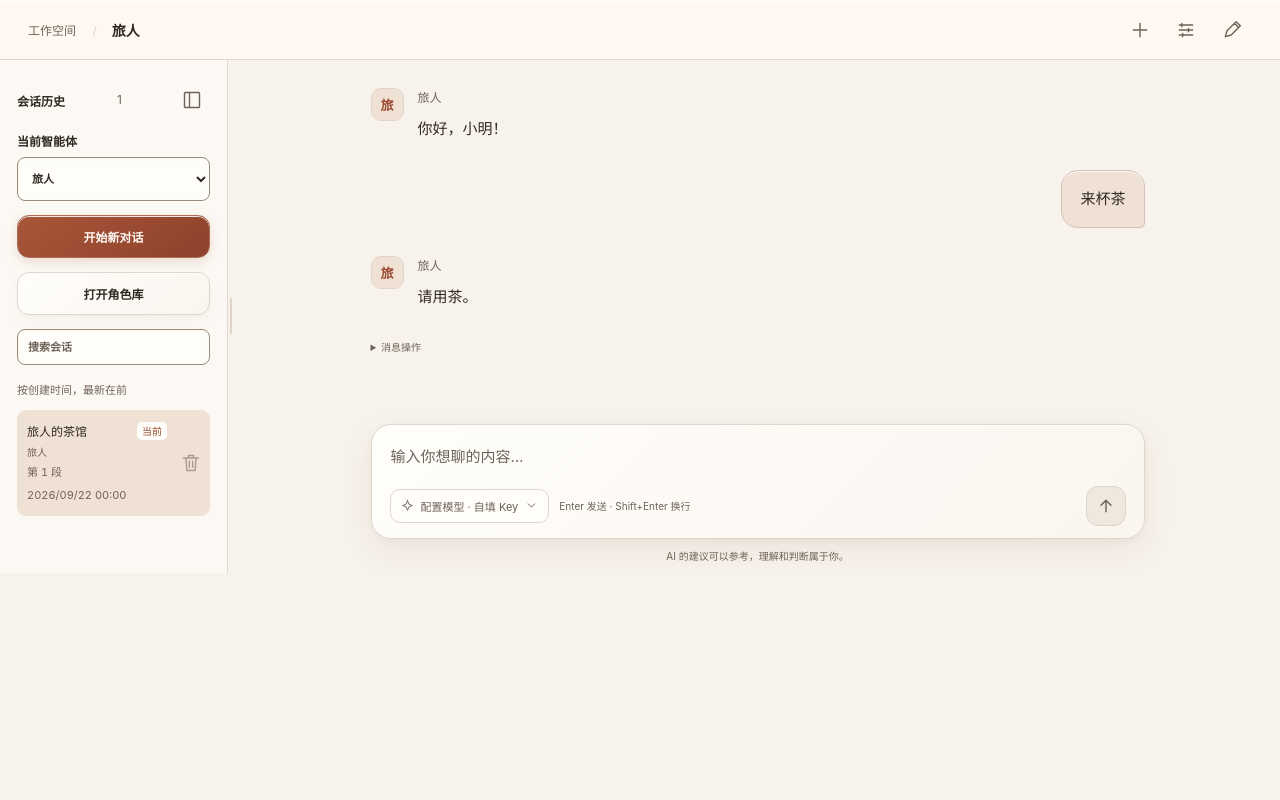
Scenario: does not reopen a canvas the user closed while its initial document was still loading
Expected: the text "请用茶。" is shown, [418,286,478,306]
Click the button named "教学画布". click: [1232, 30]
box: [1212,10,1252,50]
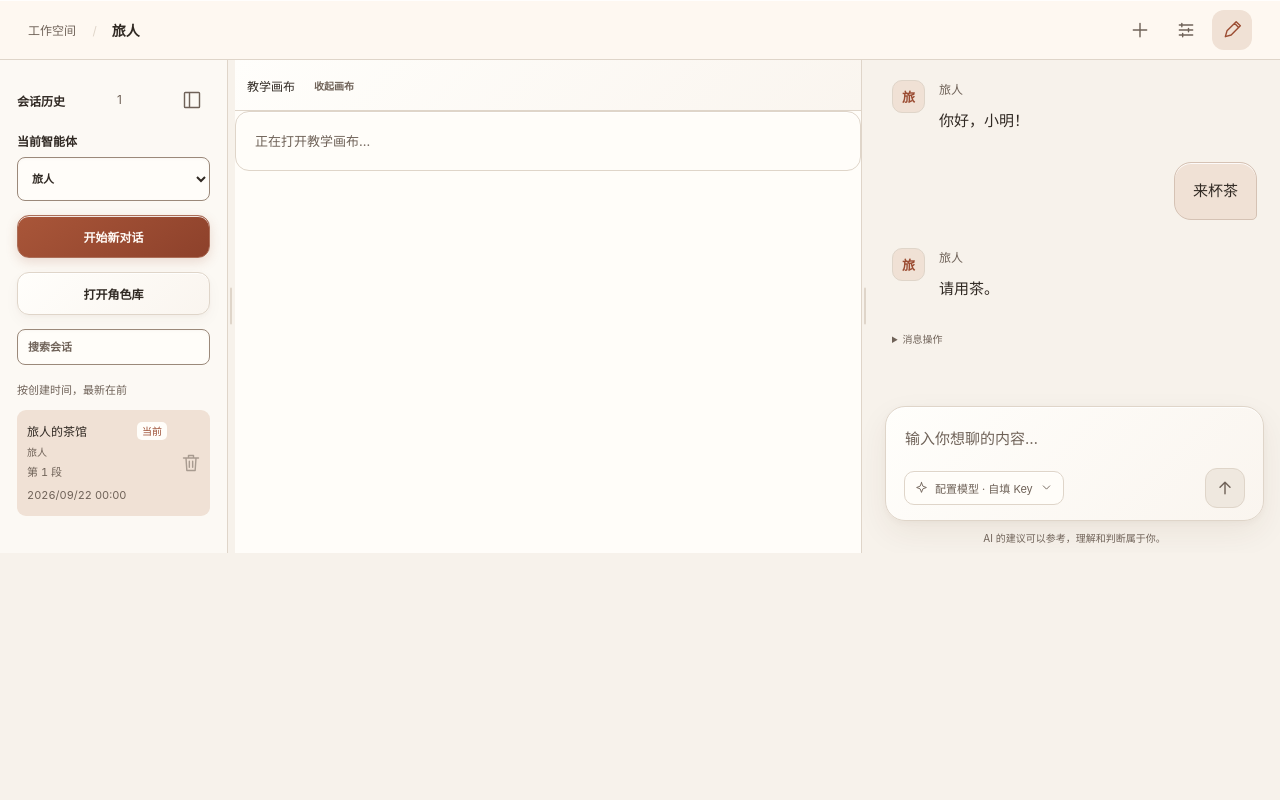
Click the button named "教学画布". click: [1232, 30]
box: [1212,10,1252,50]
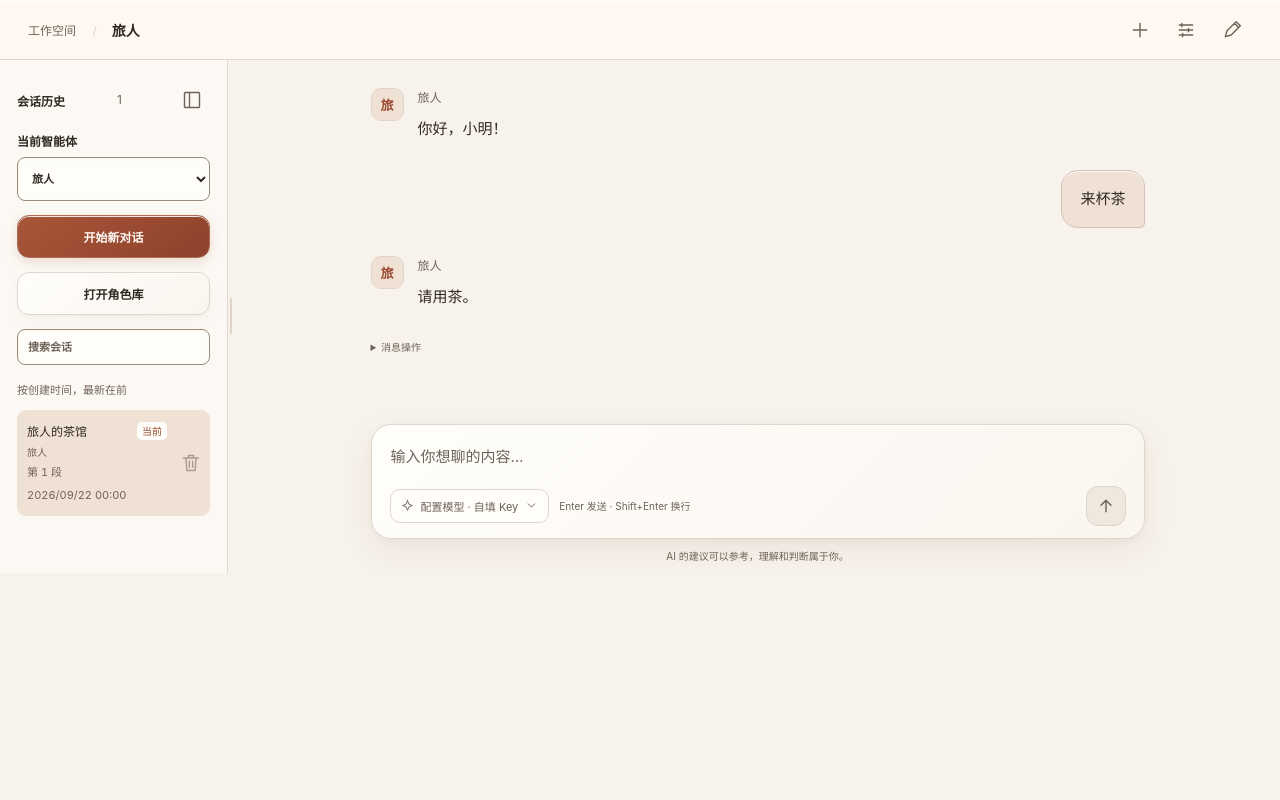
Now the text "教学画布" is gone
